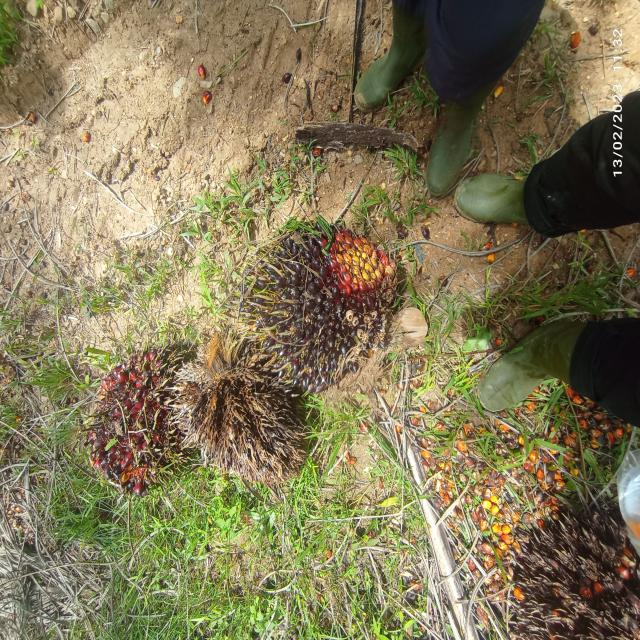fraksi 00: (225, 208, 422, 396)
fraksi 1: (64, 352, 185, 509)
